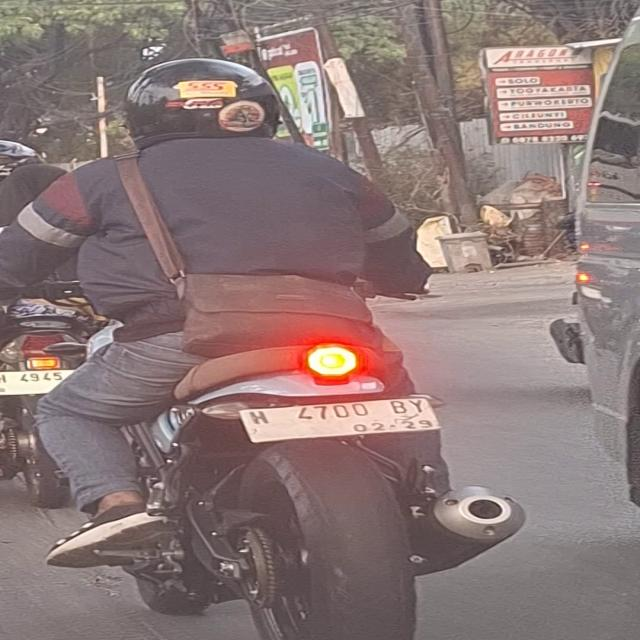WithHelmet: (0, 57, 433, 570), (0, 140, 68, 228)
